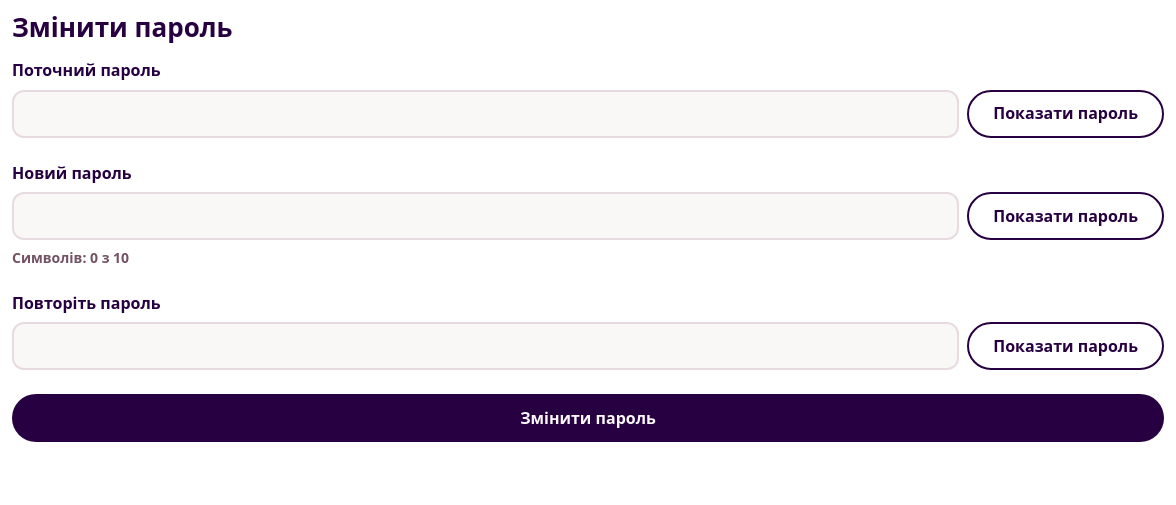
Test: «Змінити пароль» › requires the current password and sends both; done says the other devices are signed out
Type "старий-пароль-ось" into the password field labelled "Поточний пароль". click: (486, 114)
box: [12,90,959,138]
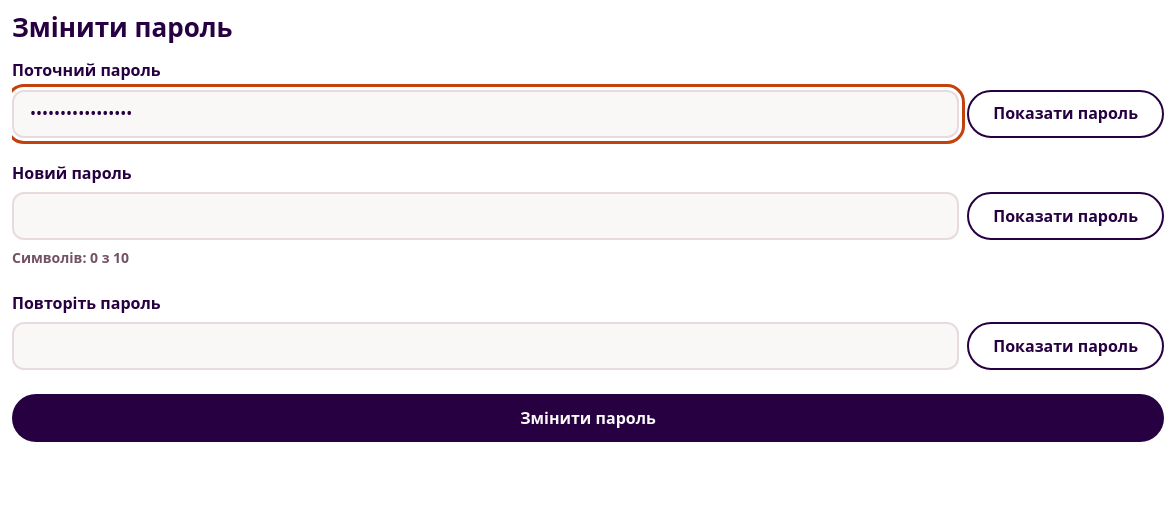
Type "сонячний-ранок-над-Дніпром" into the password field labelled "Новий пароль". click: (486, 216)
box: [12,192,959,240]
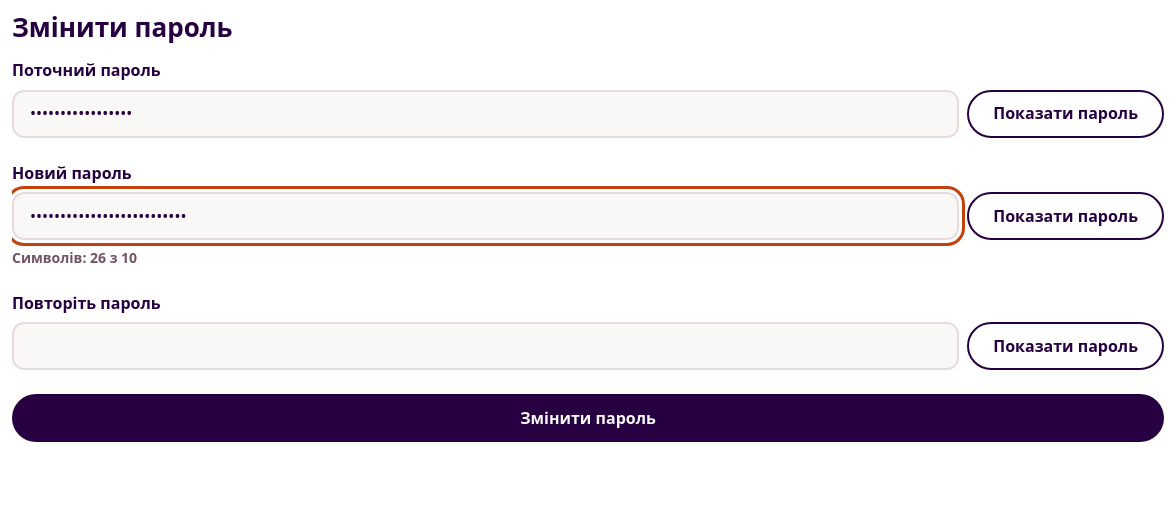
Type "сонячний-ранок-над-Дніпром" into the password field labelled "Повторіть пароль". click: (486, 346)
box: [12,322,959,370]
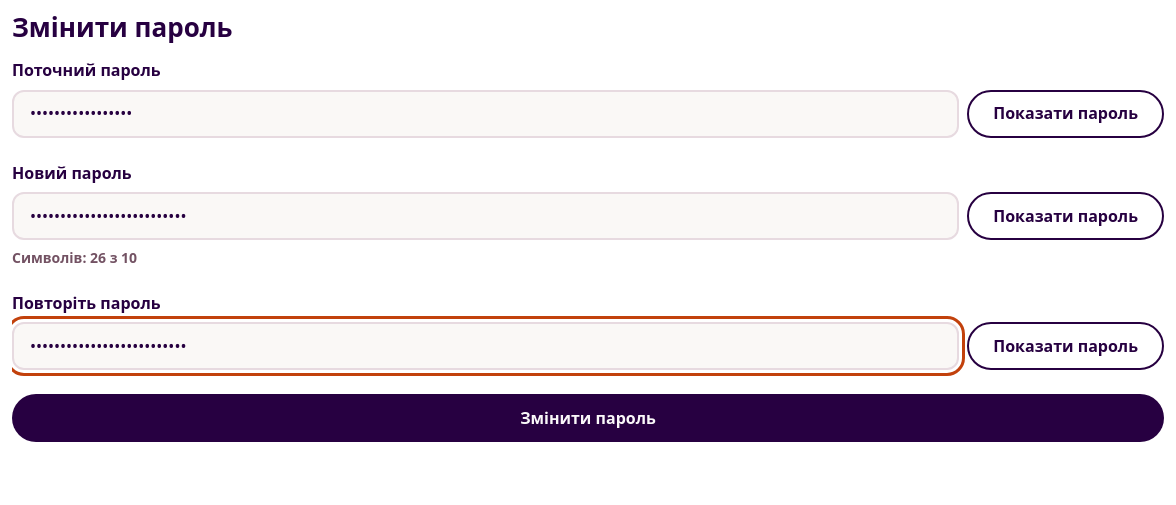
Click the button "Змінити пароль". click: (588, 418)
box: [12,394,1164,442]
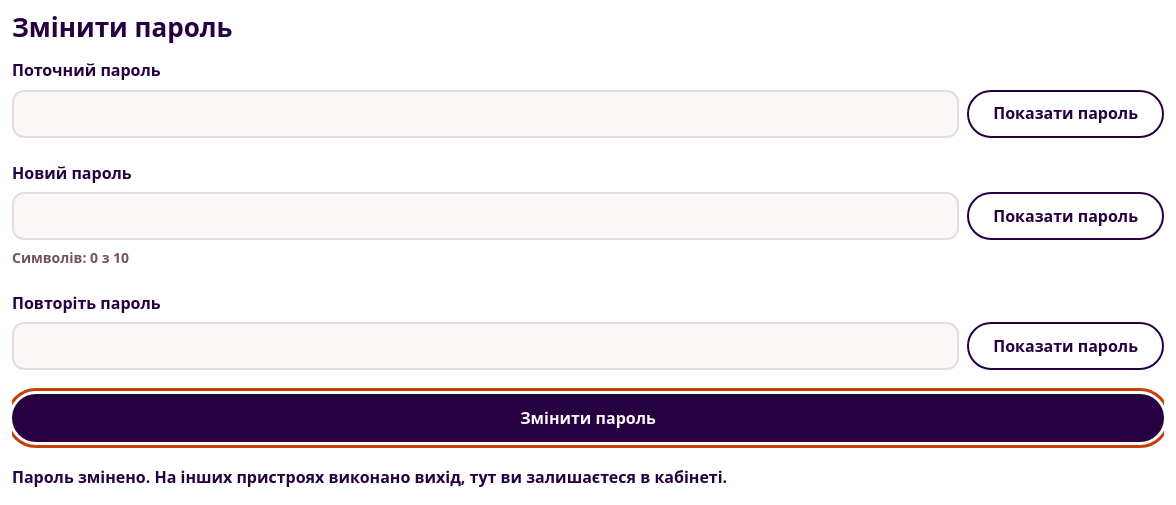
Now the message shows "Пароль змінено. На інших пристроях виконано вихід, тут ви залишаєтеся в кабінеті.", box [12,466,727,488]
Now the password field labelled "Поточний пароль" is empty, box [12,90,959,138]
